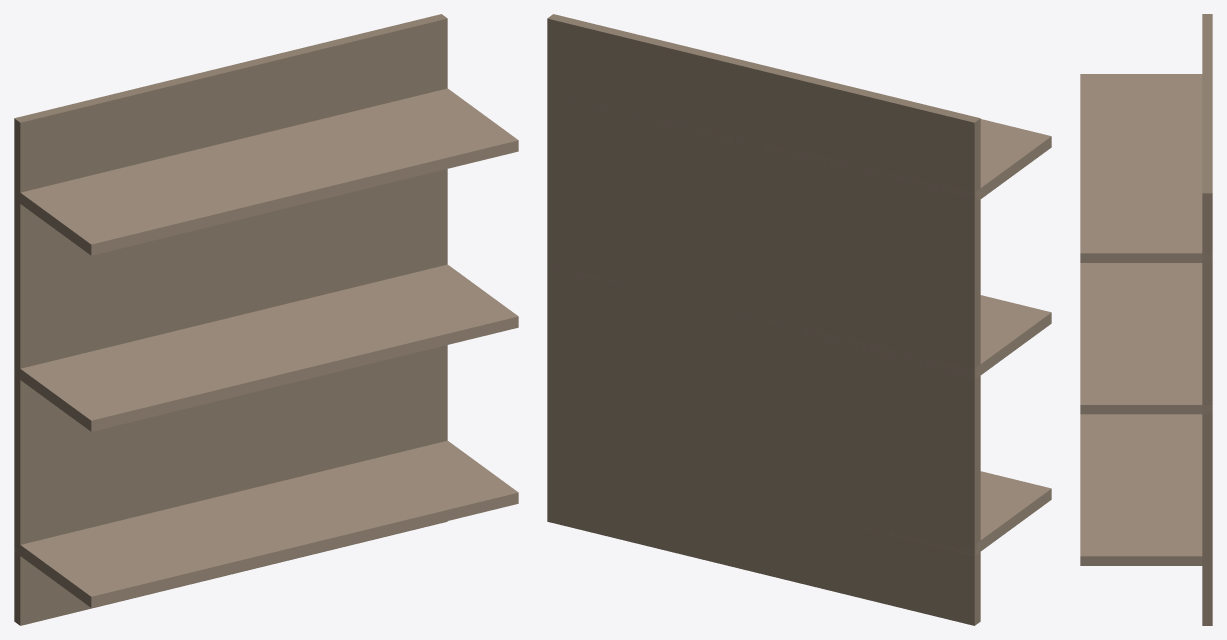
The model's file is cat_shelf_wall-3tier.glb.
3 renders of one model, left to right at view 1: azimuth 30°, elevation 25°; view 2: azimuth 150°, elevation 25°; view 3: azimuth 270°, elevation 25°, orthographic. The views are drawn at different scales.
Parts seen in each view (by area): view 1: geometry_0, geometry_2, geometry_1, geometry_3; view 2: geometry_0, geometry_3, geometry_2, geometry_1; view 3: geometry_3, geometry_2, geometry_1, geometry_0.
Part boxes in pixels (left/top/right/bottom): geometry_0: left=14, top=14, right=447, bottom=625; geometry_2: left=14, top=264, right=518, bottom=431; geometry_1: left=14, top=440, right=518, bottom=607; geometry_3: left=14, top=88, right=518, bottom=255; geometry_0: left=547, top=14, right=980, bottom=625; geometry_3: left=547, top=89, right=1051, bottom=203; geometry_2: left=548, top=265, right=1051, bottom=379; geometry_1: left=547, top=450, right=1051, bottom=555; geometry_3: left=1080, top=74, right=1212, bottom=262; geometry_2: left=1080, top=263, right=1212, bottom=414; geometry_1: left=1080, top=414, right=1202, bottom=565; geometry_0: left=1202, top=14, right=1212, bottom=625.
Bounding box in the file's own units: 0.8 × 0.9 × 0.25.
